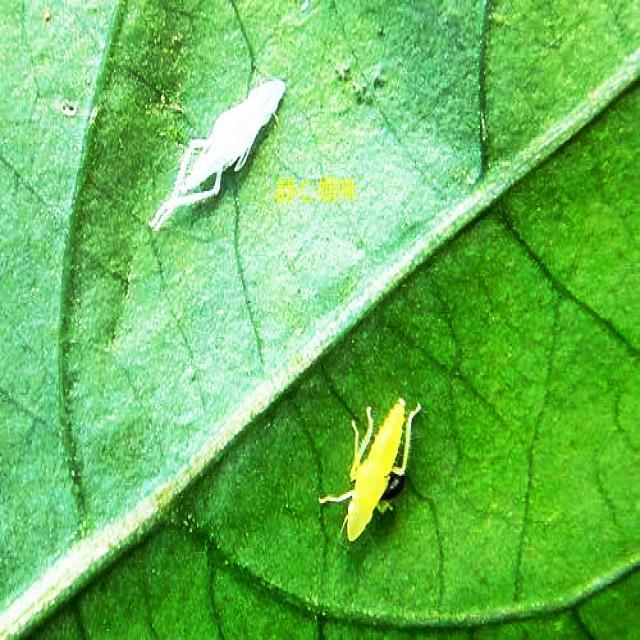green-leafhopper: (151, 74, 289, 234), (325, 387, 423, 545)
